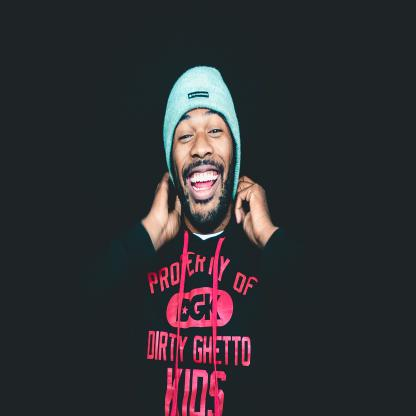Eye: (178, 130, 193, 144), (208, 125, 223, 137)
Mouth: (186, 168, 220, 199)
Nose: (190, 130, 213, 158)
